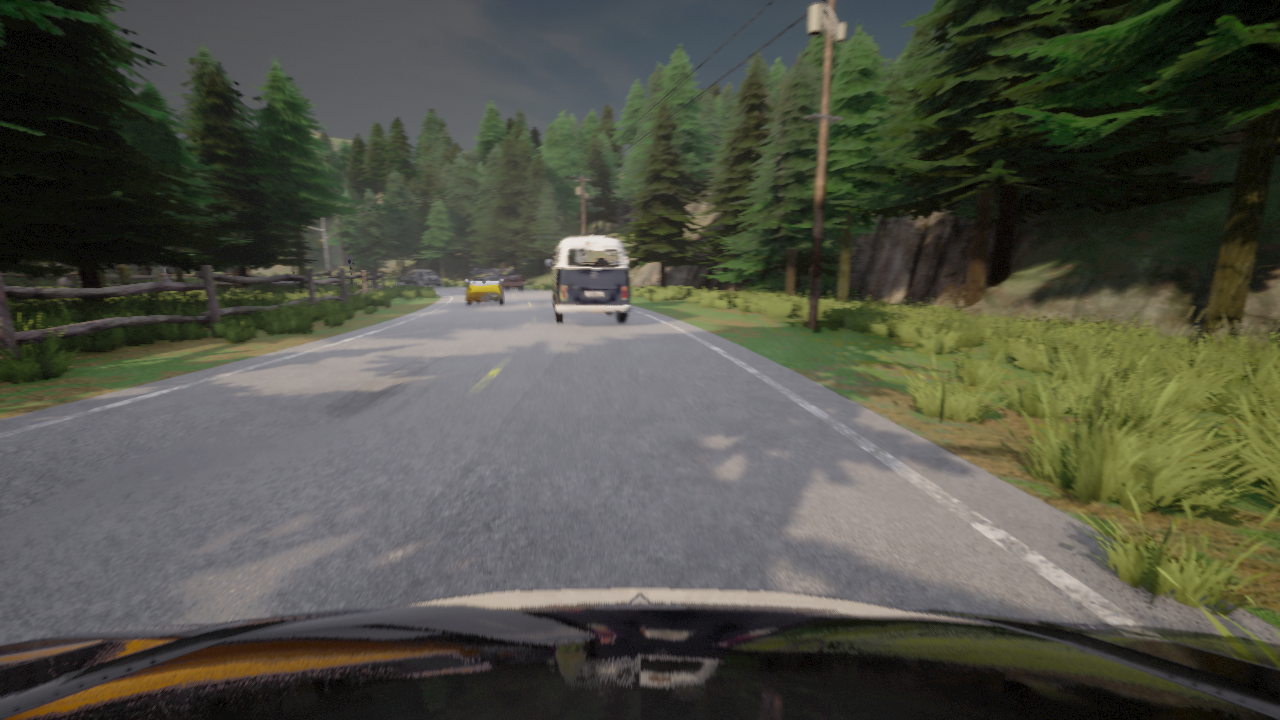cyclist: (0, 588, 1279, 719), (546, 237, 631, 324), (464, 269, 503, 304), (396, 270, 441, 287), (495, 270, 523, 290)
